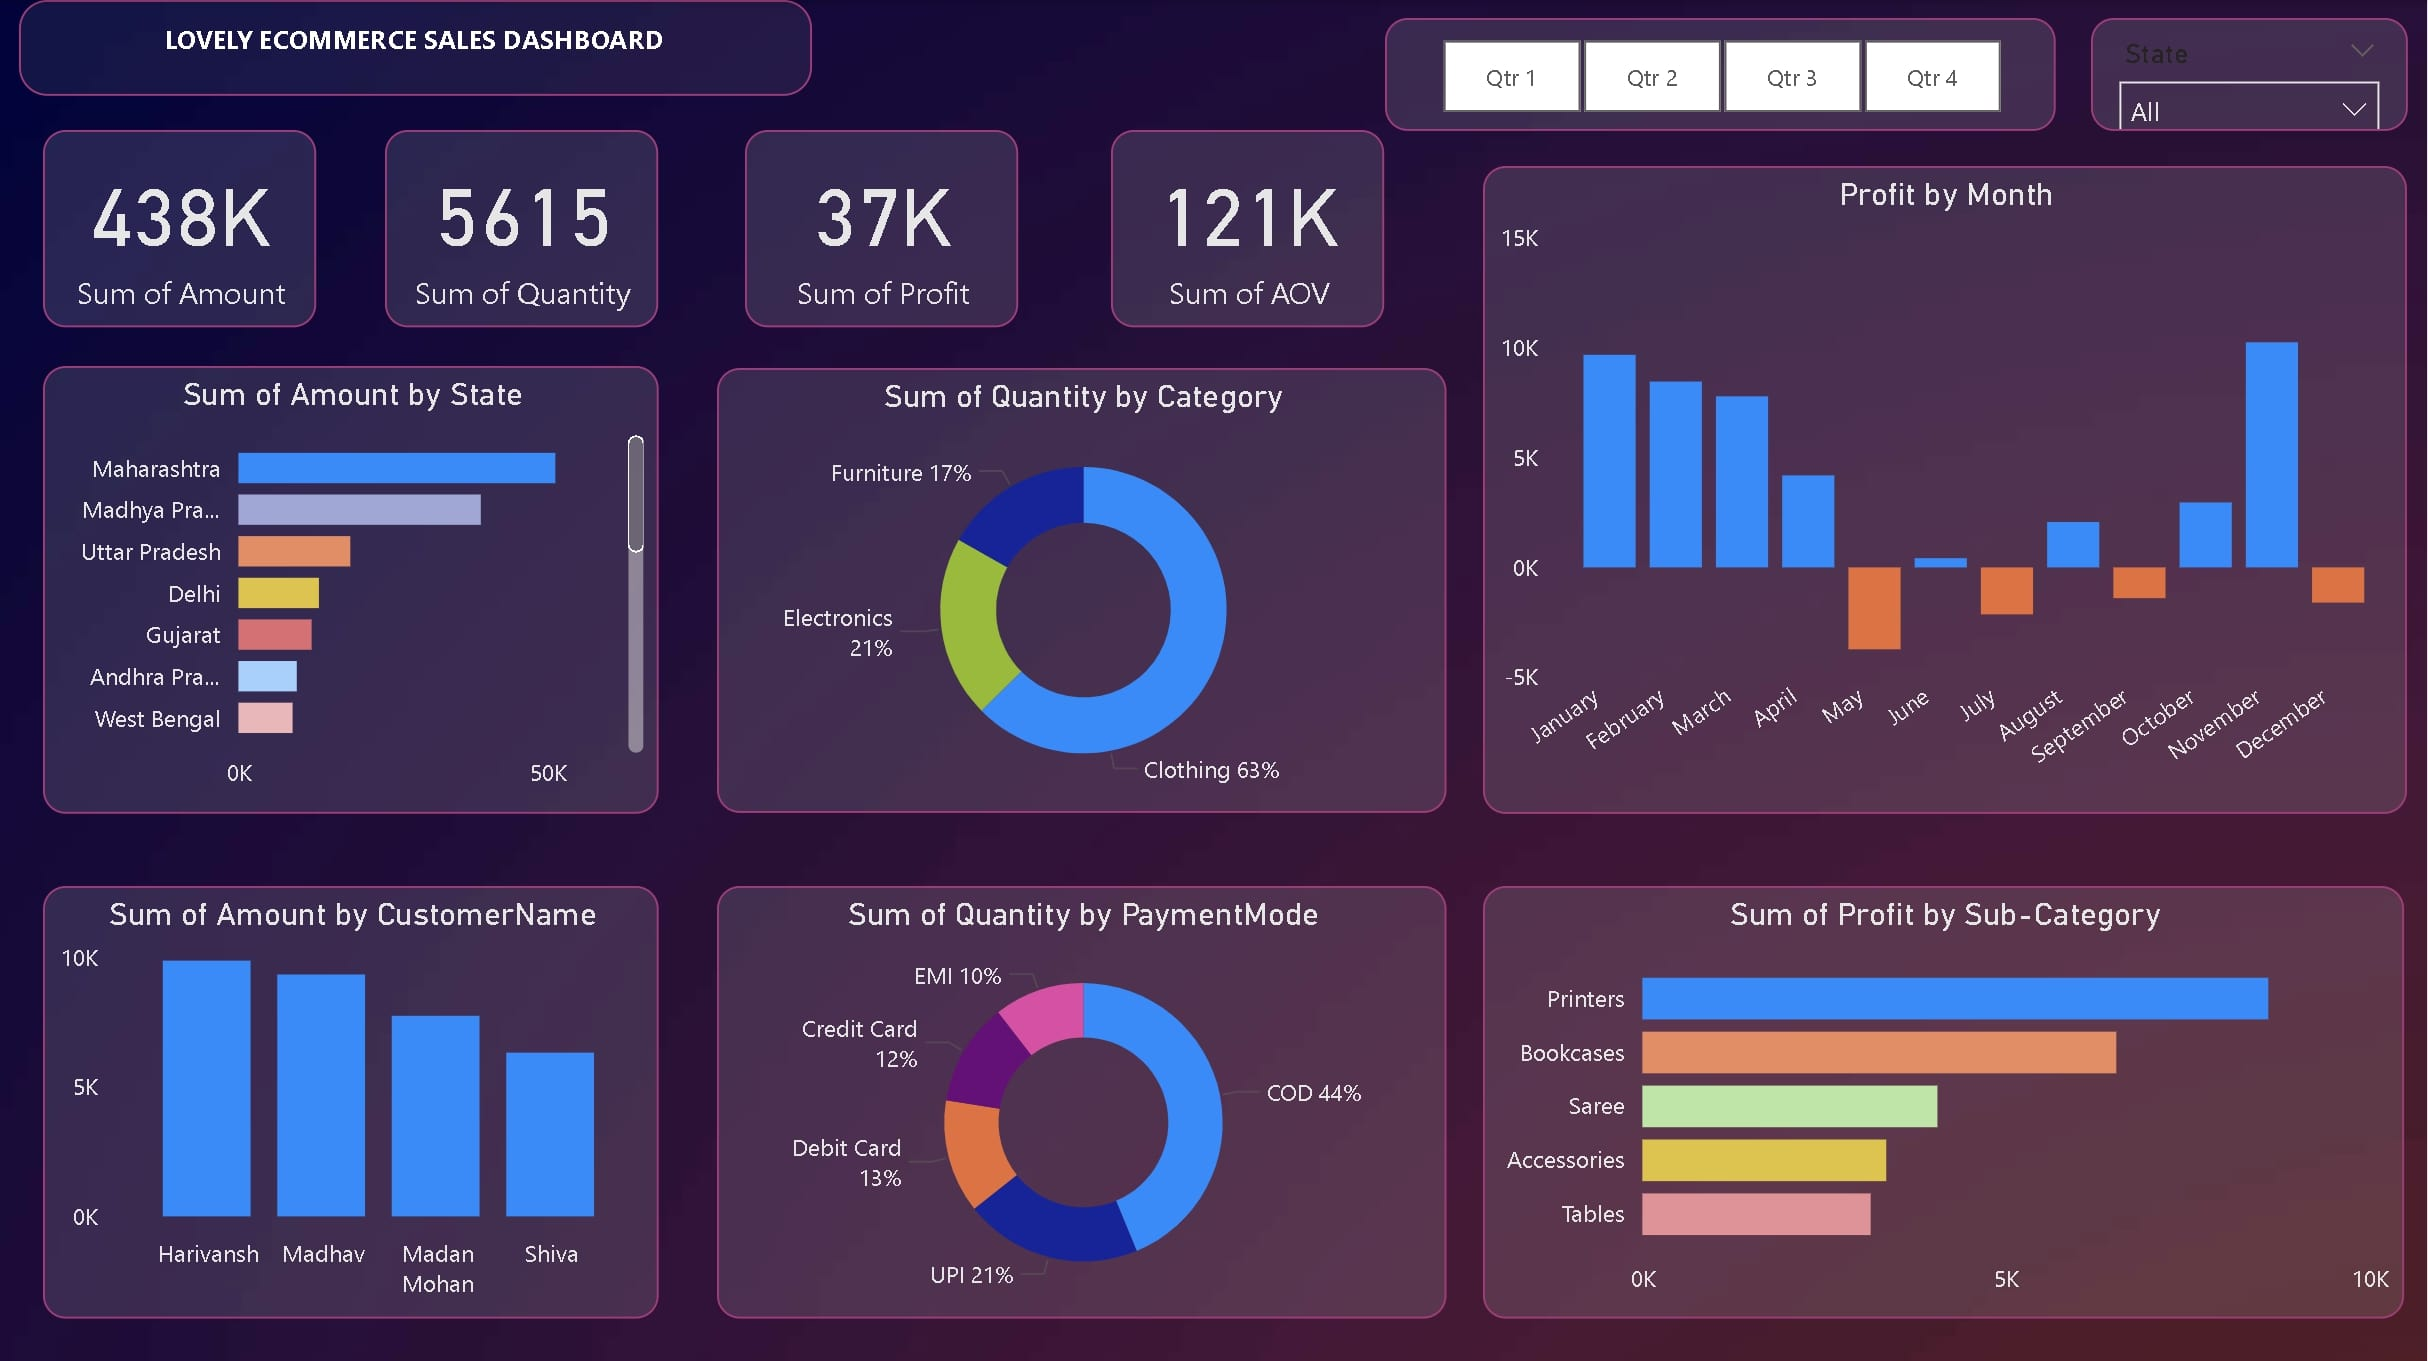

The dashboard page shown, as its layout file describes it:
{"tool":"powerbi","page":{"name":"Page 1","canvas":[1280,720],"ordinal":0},"visuals":[{"type":"textbox","box":[10.7,0,418,50.5],"z":0},{"type":"columnChart","title":"Profit by Month","fields":{"Category":["Orders.Order Date.Variation.Date Hierarchy.Month"],"Y":["Details.Profit"]},"box":[782.4,87.3,486.9,341.4],"z":1000},{"type":"barChart","fields":{"Category":["Details.Sub-Category"],"Y":["Details.Profit"]},"box":[782.4,467,485.4,228.1],"z":2000},{"type":"donutChart","fields":{"Category":["Details.Category"],"Y":["Details.Quantity"]},"box":[378.2,194.4,384.3,234.3],"z":3000},{"type":"donutChart","fields":{"Y":["Details.Quantity"],"Category":["Details.PaymentMode"]},"box":[378.2,467,384.3,228.1],"z":4000},{"type":"card","fields":{"Values":["Details.Amount"]},"box":[23,68.9,143.9,104.1],"z":5000},{"type":"card","fields":{"Values":["Details.Quantity"]},"box":[203.6,68.9,143.9,104.1],"z":6000},{"type":"card","fields":{"Values":["Details.Profit"]},"box":[393.5,68.9,143.9,104.1],"z":7000},{"type":"card","fields":{"Values":["Details.AOV"]},"box":[586.4,68.9,143.9,104.1],"z":8000},{"type":"barChart","fields":{"Category":["Orders.State"],"Y":["Details.Amount"]},"box":[23,192.9,324.6,235.8],"z":9000},{"type":"columnChart","fields":{"Category":["Orders.CustomerName"],"Y":["Details.Amount"]},"box":[23,467,324.6,228.1],"z":9001},{"type":"slicer","fields":{"Values":["Orders.Order Date.Variation.Date Hierarchy.Quarter"]},"box":[730.3,9.2,353.7,59.7],"z":9002},{"type":"slicer","fields":{"Values":["Orders.State"]},"box":[1102.4,9.2,166.9,59.7],"z":9003}]}

Visuals, with their boxes in screenshot pixels (x1, y1, x2, y2), scaled from the page's 1280x720 canvas onto the 2428x1361 screenshot:
textbox: 20 0 813 95
"Profit by Month" columnChart: 1484 165 2408 810
barChart - Details.Sub-Category x Details.Profit: 1484 883 2405 1314
donutChart - Details.Category x Details.Quantity: 717 367 1446 810
donutChart - Details.Quantity x Details.PaymentMode: 717 883 1446 1314
card - Details.Amount: 44 130 317 327
card - Details.Quantity: 386 130 659 327
card - Details.Profit: 746 130 1019 327
card - Details.AOV: 1112 130 1385 327
barChart - Orders.State x Details.Amount: 44 365 659 810
columnChart - Orders.CustomerName x Details.Amount: 44 883 659 1314
slicer - Orders.Order Date.Variation.Date Hierarchy.Quarter: 1385 17 2056 130
slicer - Orders.State: 2091 17 2408 130
